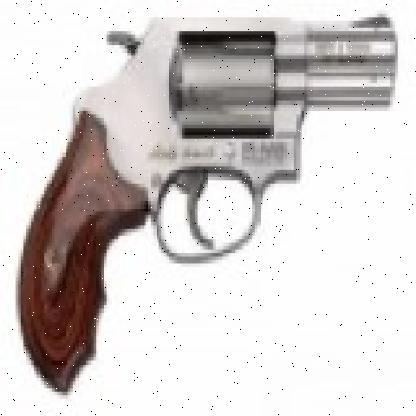pistol: (18, 3, 392, 391)
